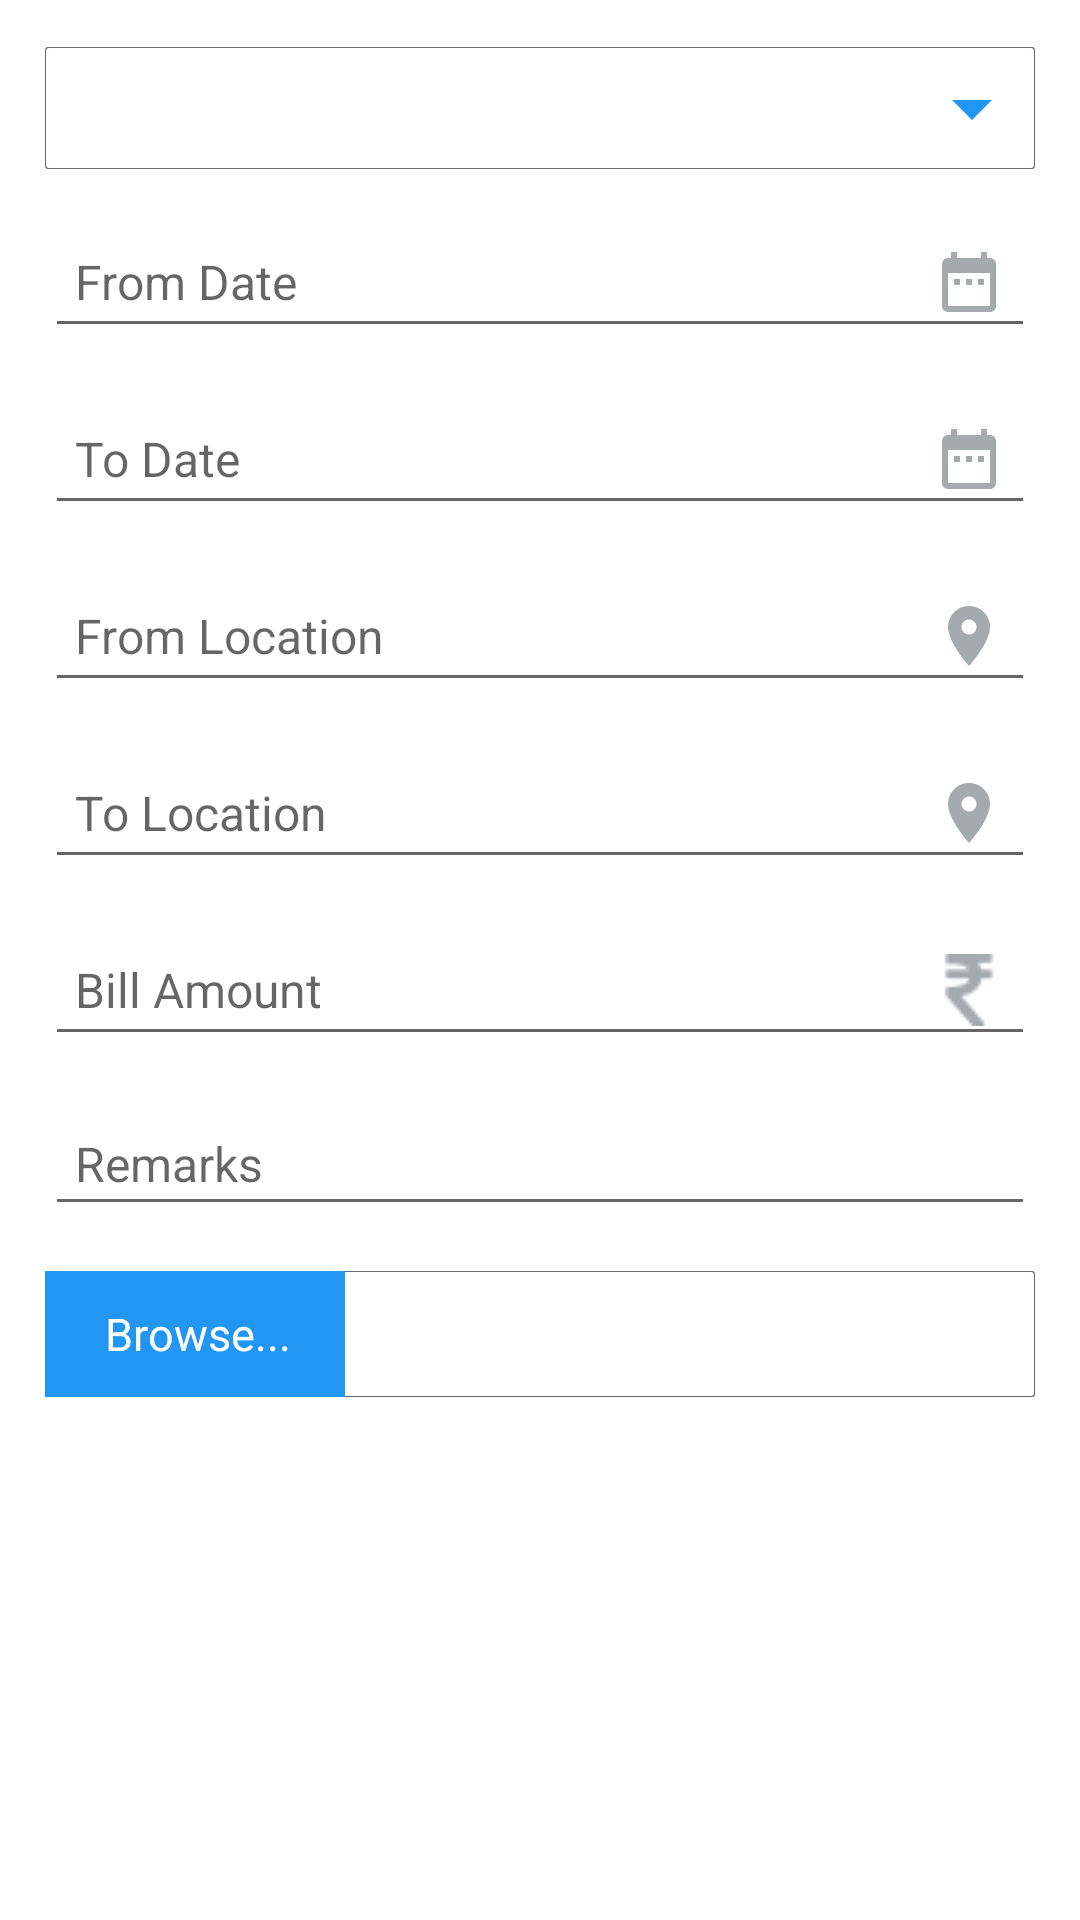

Icons on this 1080px×1920px Android screen, each with its box as (x1, y1, x2, y2):
arrow drop down: (952, 100, 992, 120)
